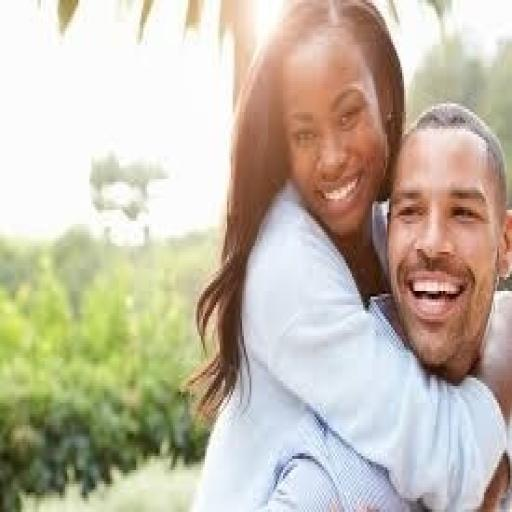hugging: (184, 0, 510, 509)
